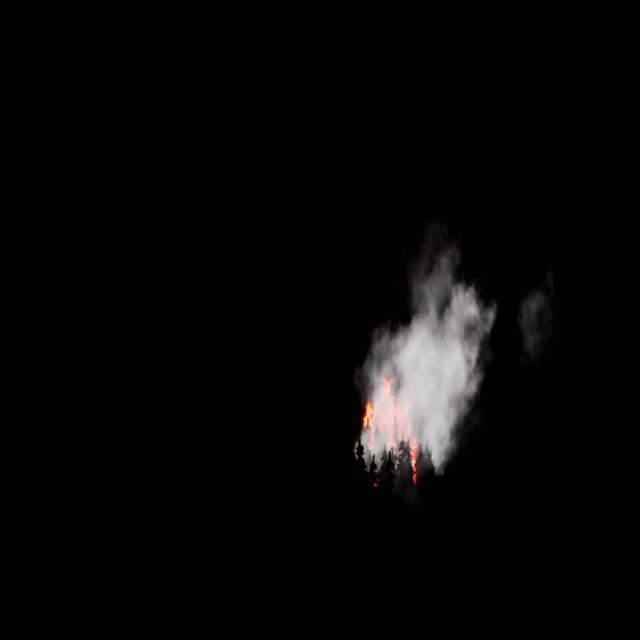fire: (358, 388, 428, 489)
smoke: (351, 225, 501, 478), (520, 272, 558, 353)
